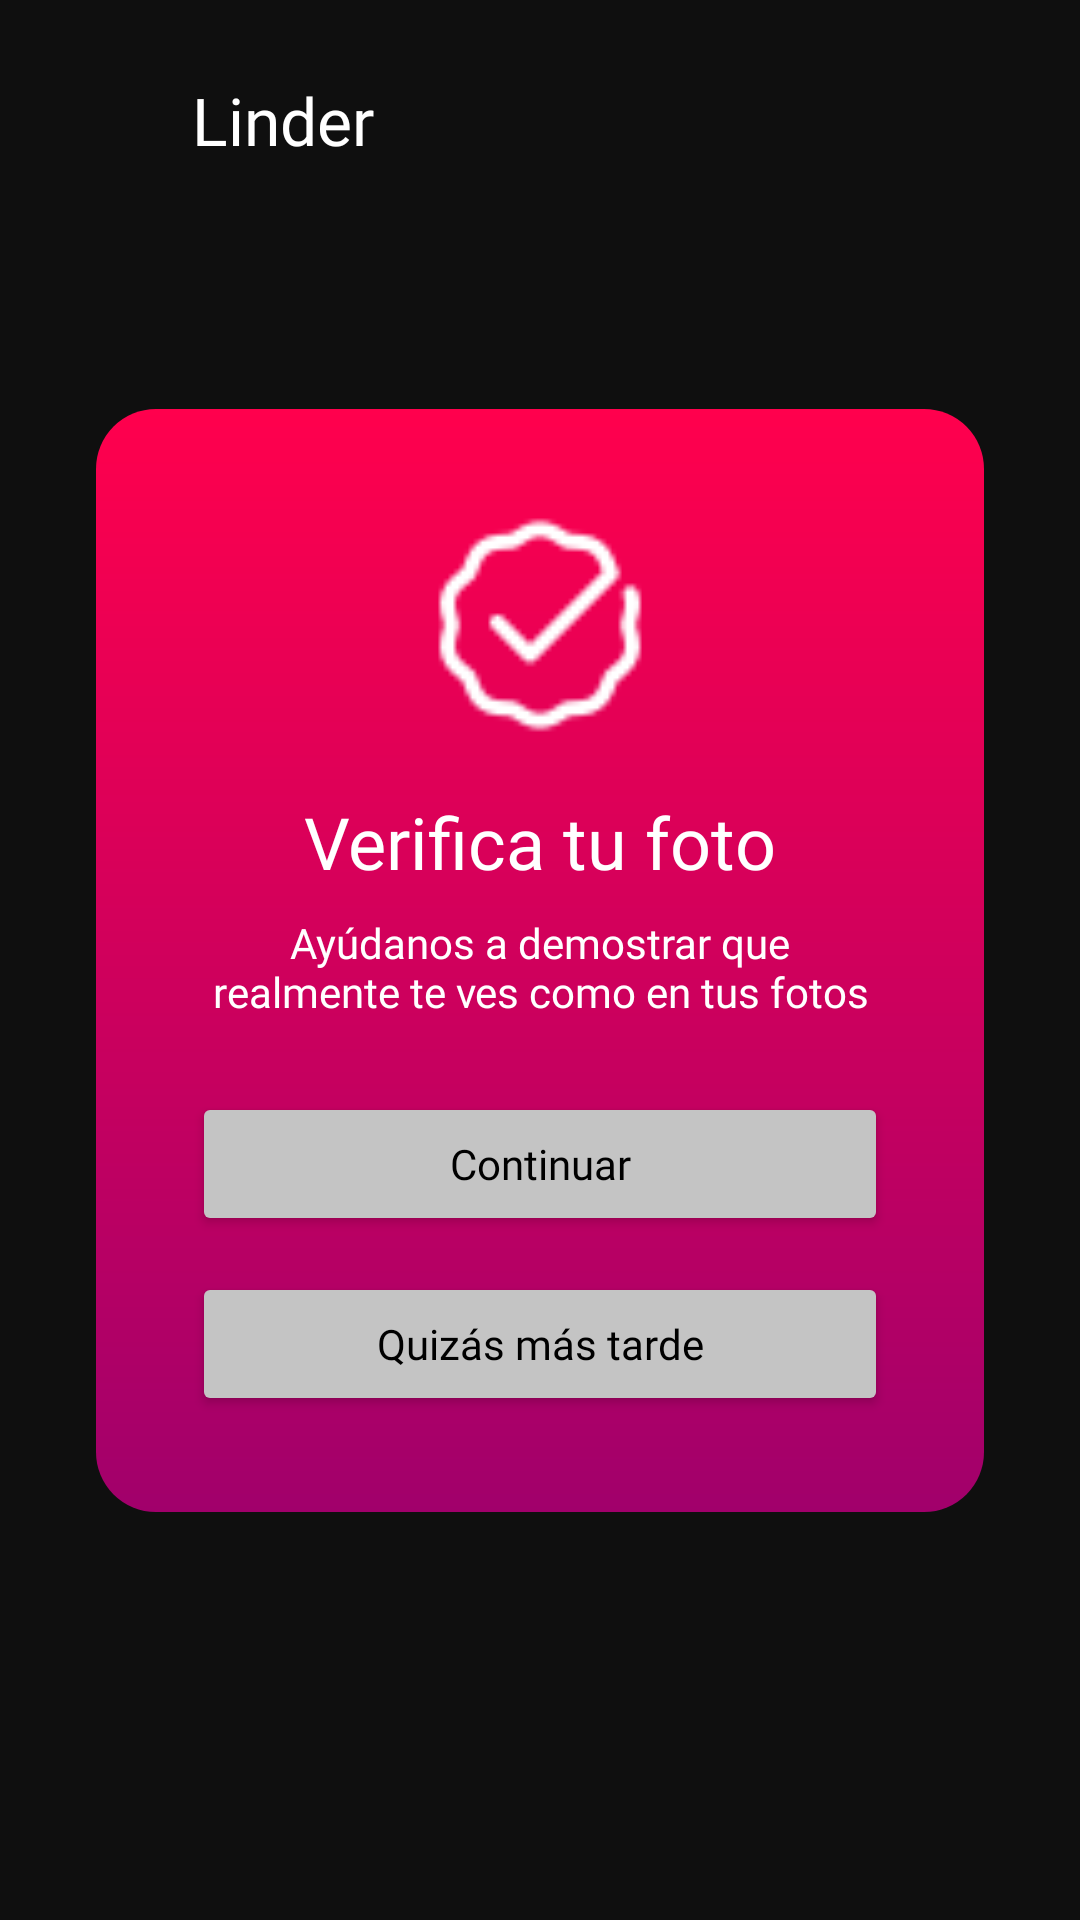

Where icons sit on this 1080w x 1920h app screen, as (x1, y1, x2, y2):
check circle: (420, 518, 660, 745)
